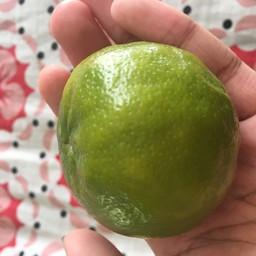Good_orange: (50, 33, 245, 241)
